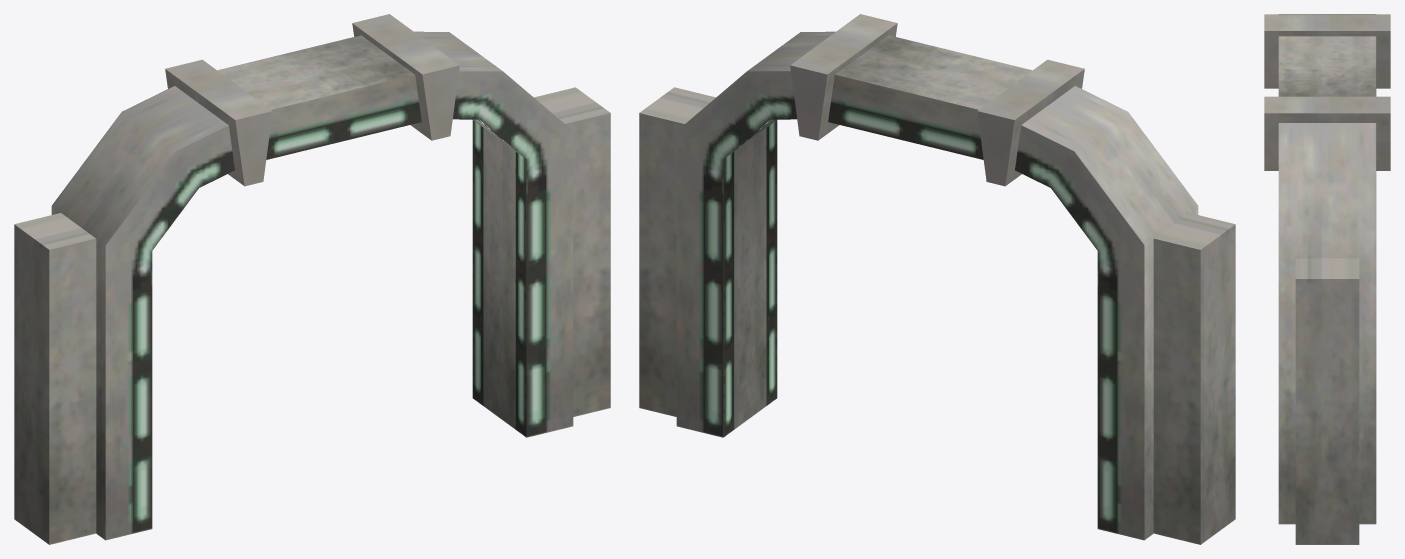
File: thm_corl_imprv_arch_lg_s02_l2.fbx
3 views of the same model, side by side, from view 1: azimuth 30°, elevation 25°; view 2: azimuth 150°, elevation 25°; view 3: azimuth 270°, elevation 25° (orthographic). The views are drawn at different scales.
Parts seen in each view (by area): view 1: mesh_node; view 2: mesh_node; view 3: mesh_node.
Part boxes in pixels (bbox=[...]): mesh_node: bbox=[14, 14, 610, 544]; mesh_node: bbox=[639, 14, 1235, 544]; mesh_node: bbox=[1264, 14, 1390, 544].
Bounding box in the file's own units: 12 × 8.1 × 2.6.
1 material, 1 textured.
